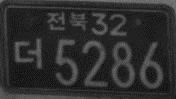2: (81, 38, 109, 88), (109, 13, 127, 36)
3: (91, 11, 108, 36)
5: (54, 38, 78, 86)
6: (138, 40, 164, 90)
8: (111, 40, 135, 88)
더: (14, 36, 42, 69)
전북_O: (46, 10, 88, 32)
